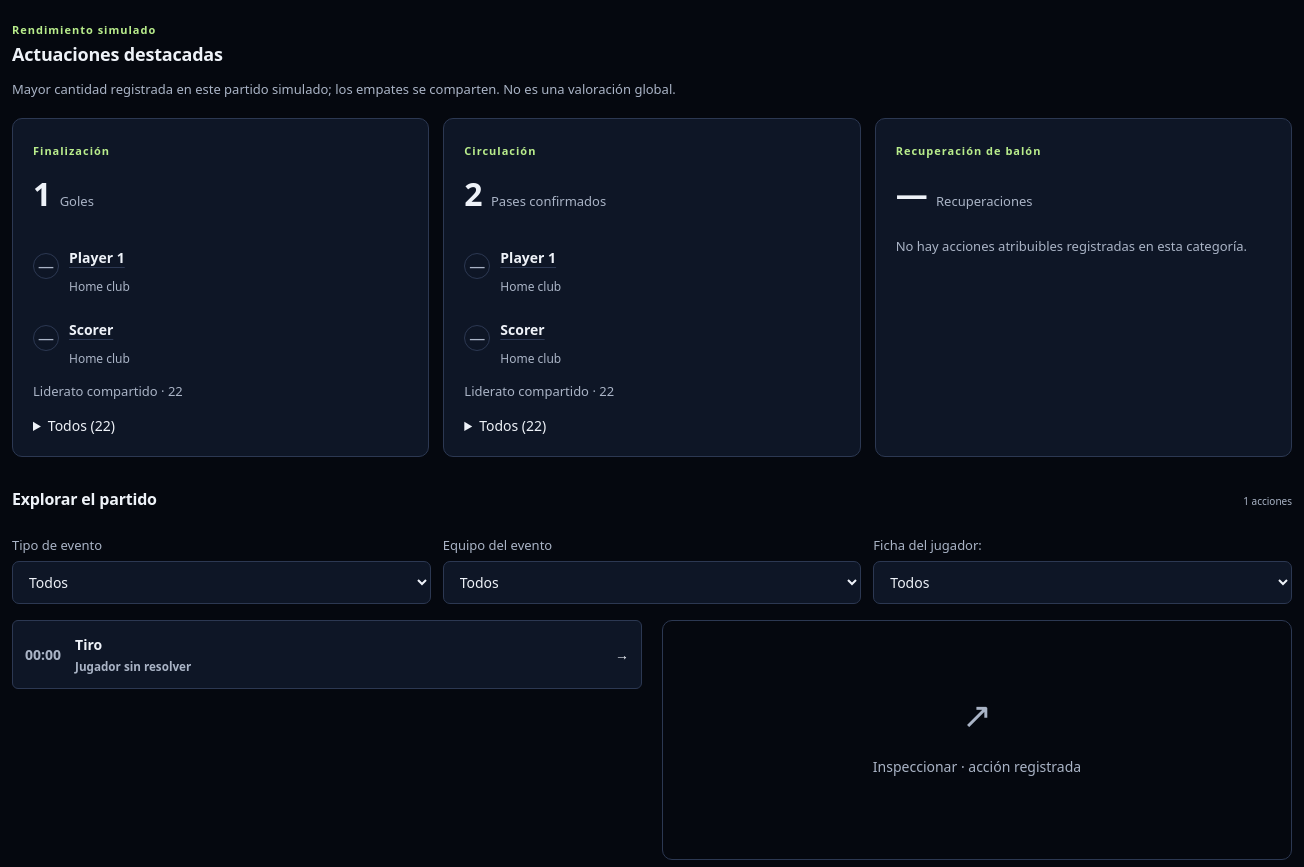
Test: translates the recorded off_target outcome without exposing raw codes
Click the button named "Inspeccionar Tiro": (43, 655) top-left (12, 620), bottom-right (642, 689)
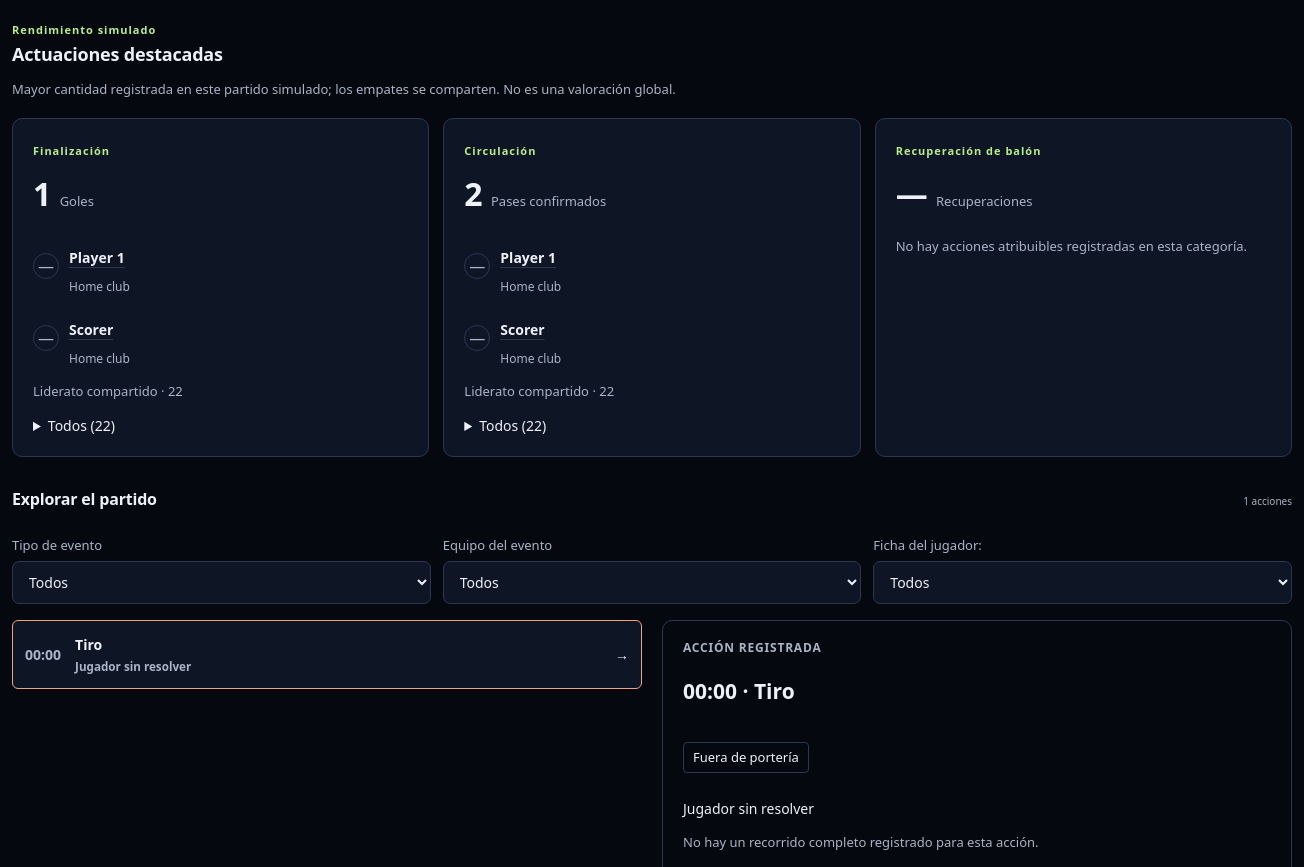
Check: the text "Fuera de portería" is shown, box top-left (683, 742), bottom-right (809, 773)
